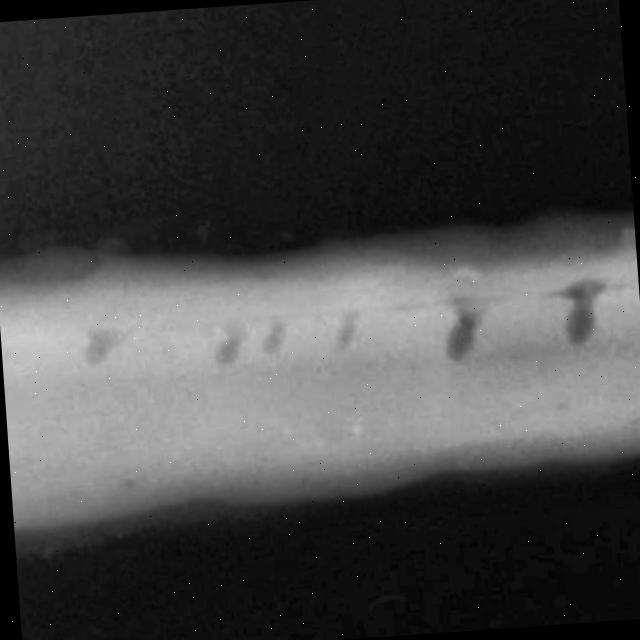LoP-LoF: (56, 266, 634, 342)
Pore: (73, 294, 618, 398)
